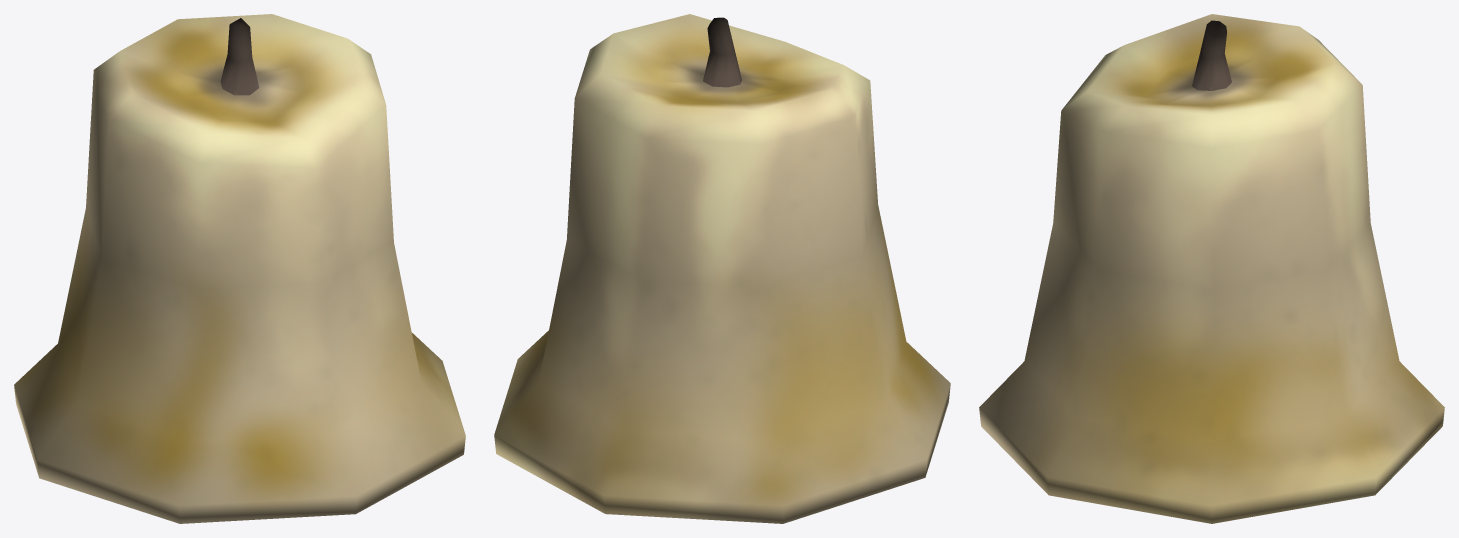
The model's file is candle1.fbx.
3 views of the same model, side by side, from view 1: azimuth 30°, elevation 25°; view 2: azimuth 150°, elevation 25°; view 3: azimuth 270°, elevation 25° (orthographic).
Visible parts, largest first — view 1: candle1; view 2: candle1; view 3: candle1.
Part boxes in pixels (x1,y1,x2,y2): candle1: [14, 14, 465, 523]; candle1: [494, 14, 950, 523]; candle1: [979, 14, 1444, 523].
Size of the model in its own units: 51.09 by 49.13 by 51.09.
